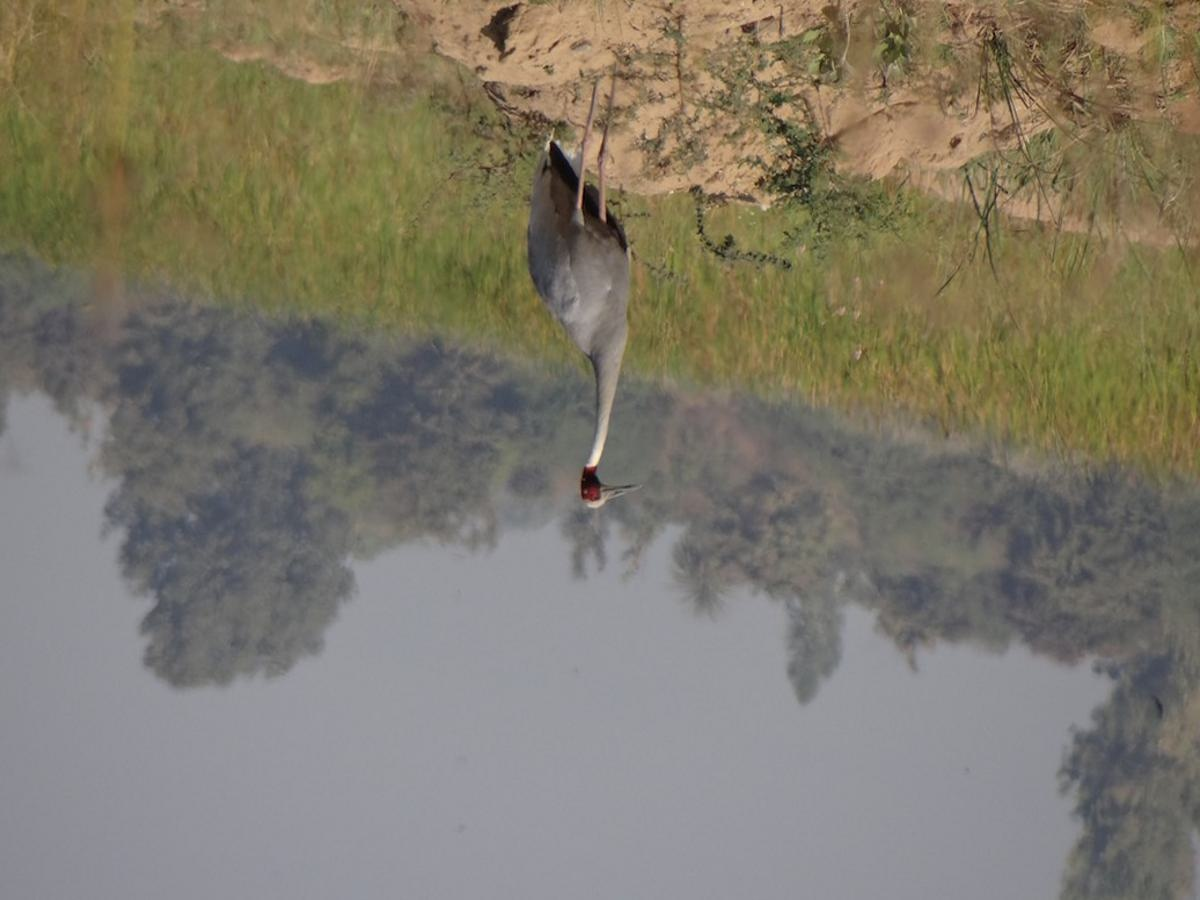crane: (511, 48, 657, 516)
